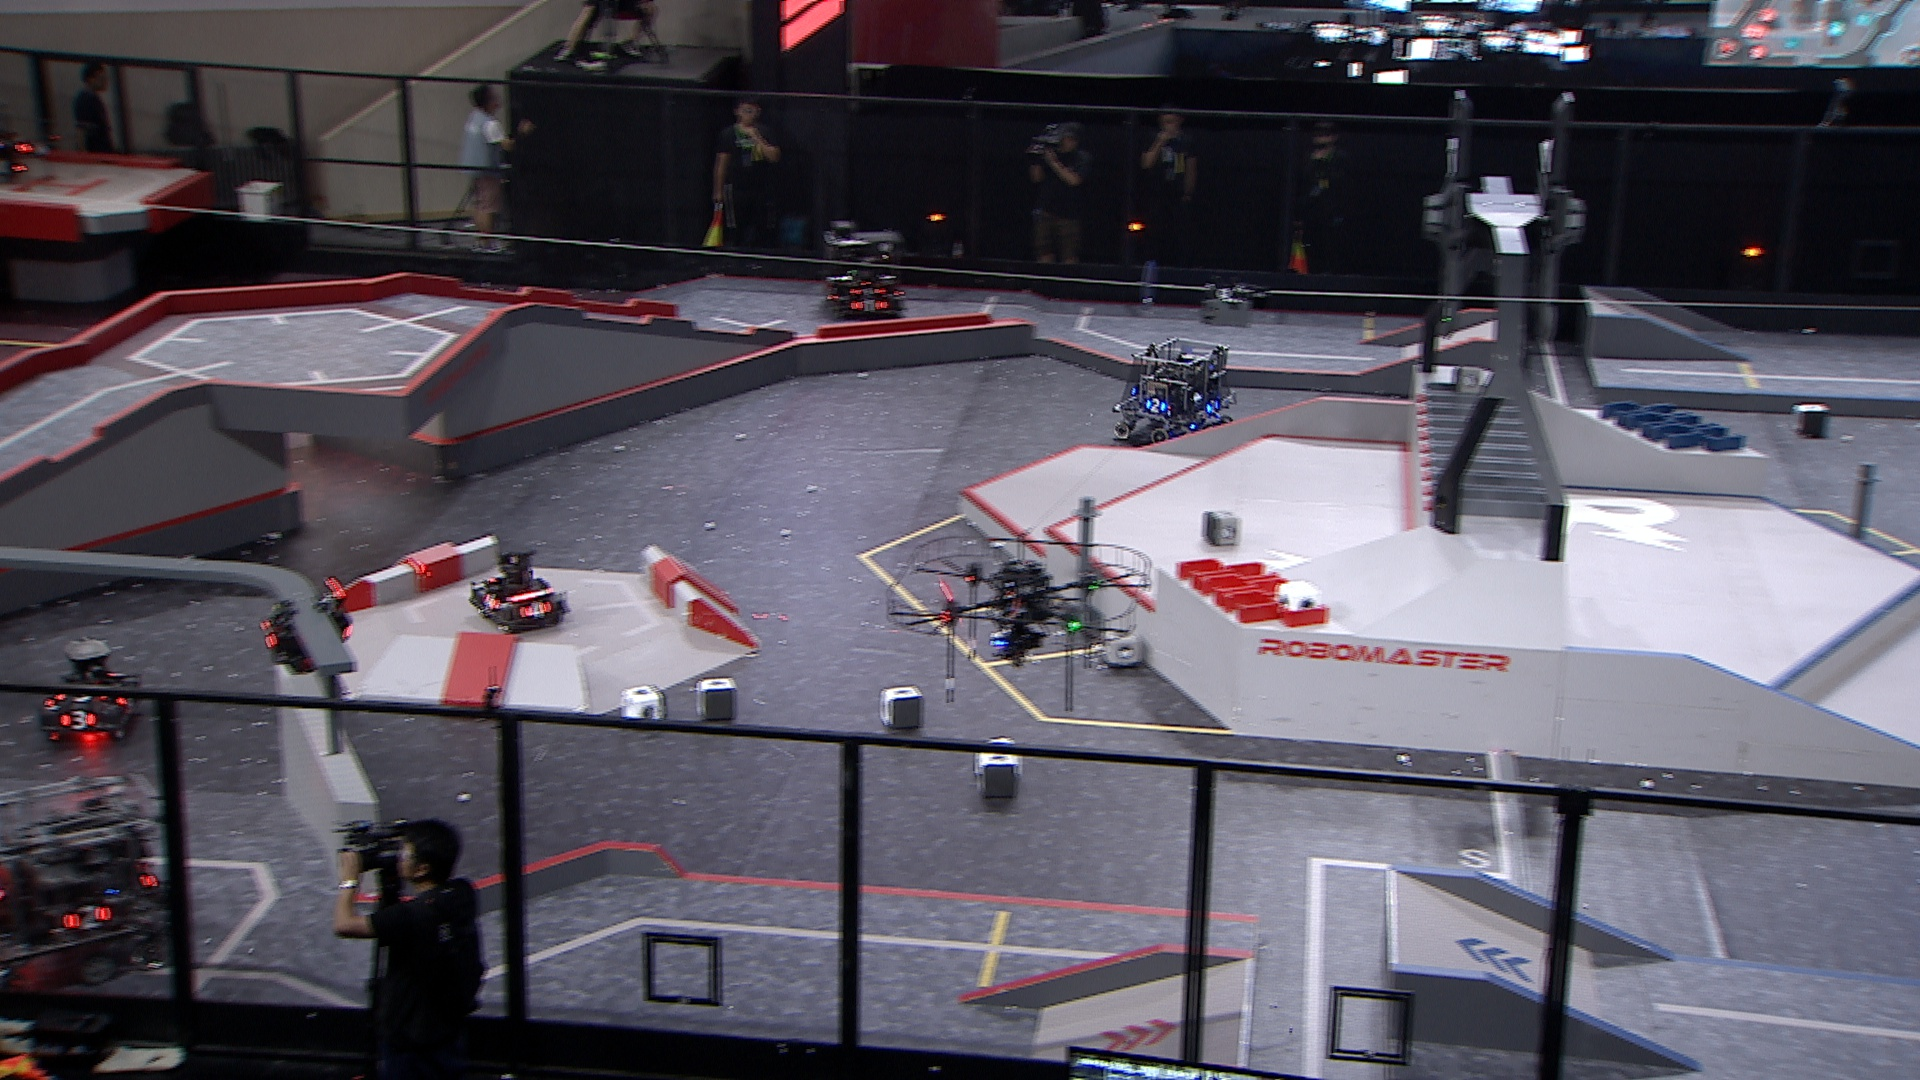armor: (63, 902, 116, 934), (61, 711, 98, 733), (258, 618, 281, 650), (520, 599, 553, 618), (851, 299, 889, 315), (55, 694, 109, 704), (479, 591, 501, 613), (851, 286, 885, 299), (1143, 398, 1168, 414), (1205, 400, 1221, 415)
car: (1106, 335, 1237, 452), (34, 638, 149, 749), (818, 222, 909, 338), (465, 551, 572, 636)
watcher: (257, 574, 356, 676)
